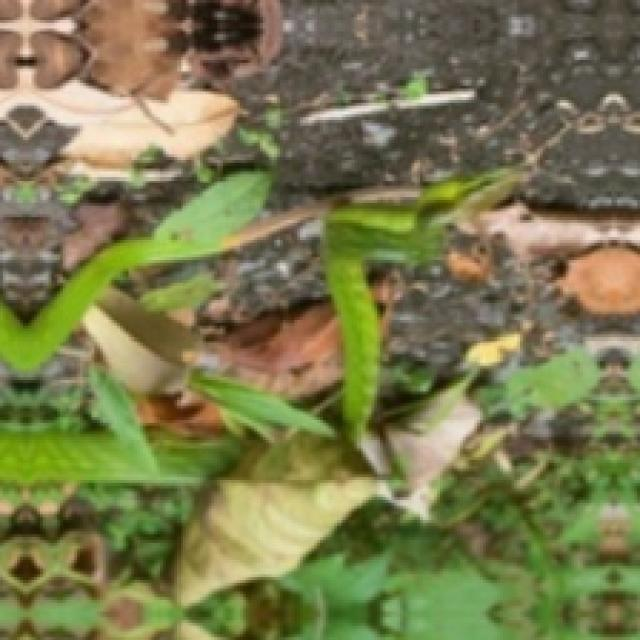red-tailed green ratsnake: (0, 174, 270, 371), (325, 169, 521, 438)
